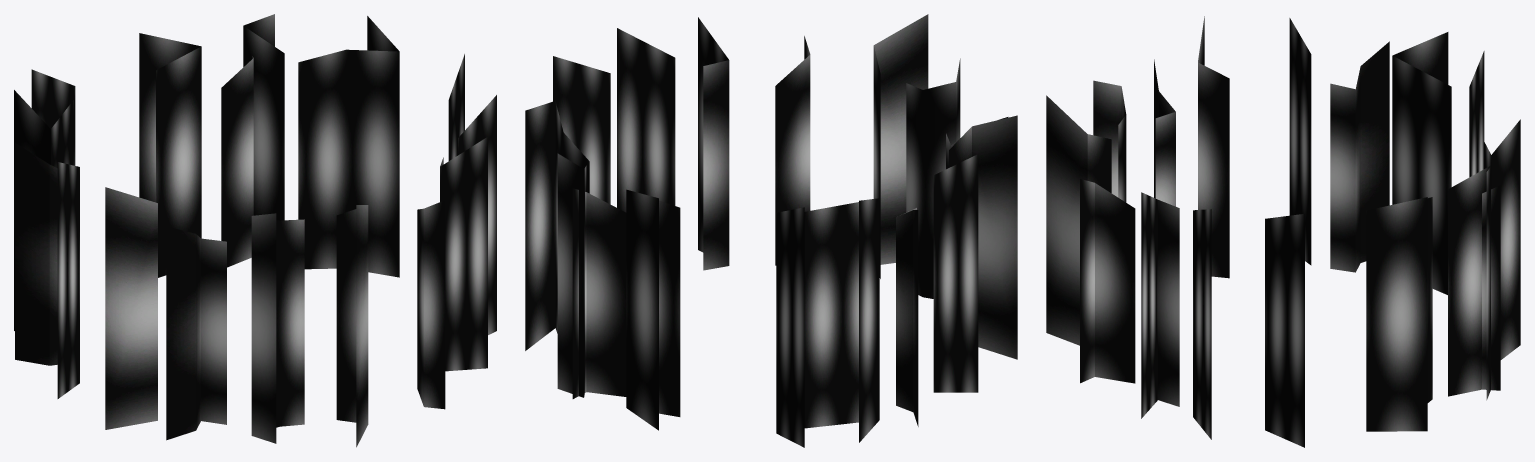
File: vfx_kurp_0016.dae
3 views of the same model, side by side, from view 1: azimuth 30°, elevation 25°; view 2: azimuth 150°, elevation 25°; view 3: azimuth 270°, elevation 25° (orthographic). The views are drawn at different scales.
Visible parts, largest first — view 1: vfx_kurp_0016; view 2: vfx_kurp_0016; view 3: vfx_kurp_0016.
Boxes of the visible parts, left/top/right/bottom form: vfx_kurp_0016: left=14, top=14, right=496, bottom=447; vfx_kurp_0016: left=525, top=14, right=1017, bottom=447; vfx_kurp_0016: left=1046, top=16, right=1520, bottom=447.
Bounding box in the file's own units: 9.19 × 9.3 × 5.14.
1 material, 1 textured.
